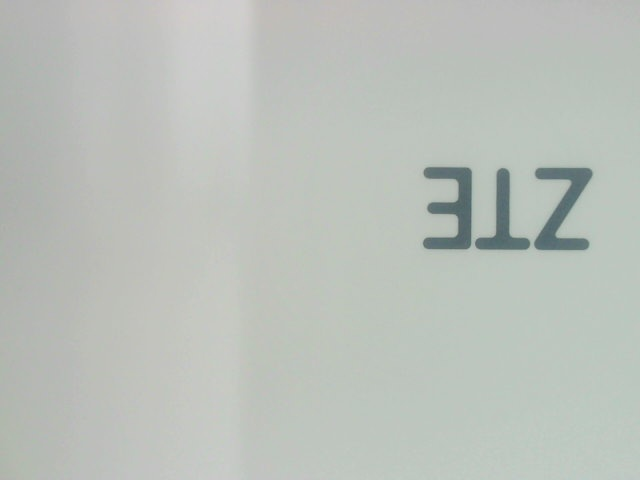AN_ZTELarge: (404, 148, 605, 266)
